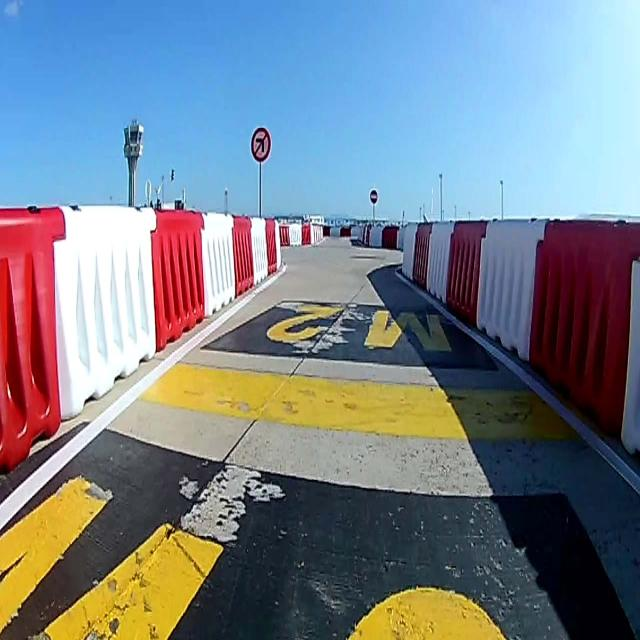soladonulmez: (251, 129, 271, 162)
